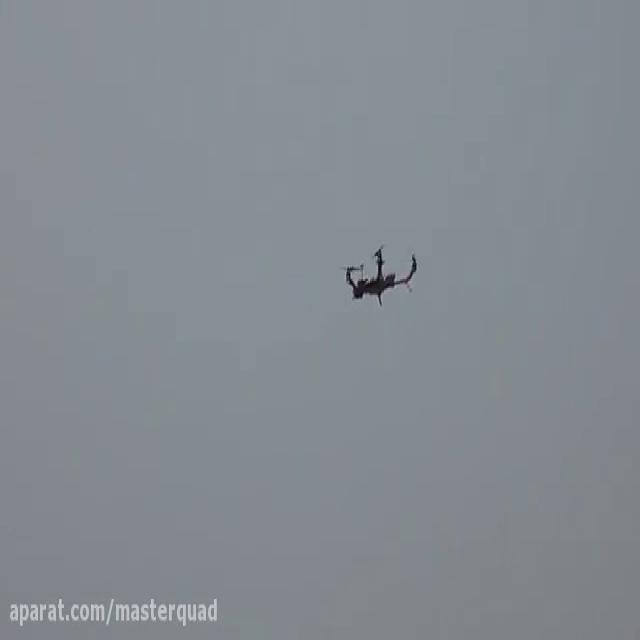drone: (335, 236, 424, 308)
